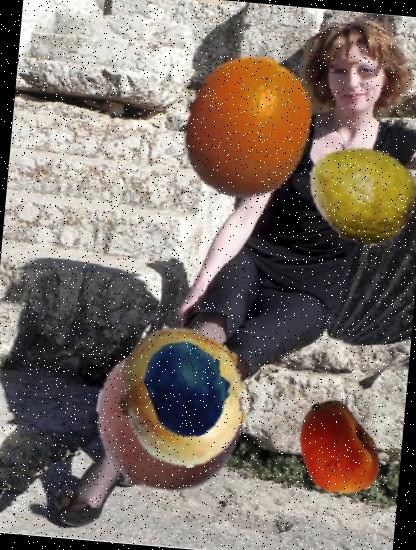Cherry: (89, 343, 248, 502)
Grapefruit: (168, 49, 324, 205)
Guava: (300, 134, 416, 255)
Huckleberry: (136, 336, 242, 442)
Nectarine: (282, 396, 391, 505)
Onion: (104, 318, 262, 476)
